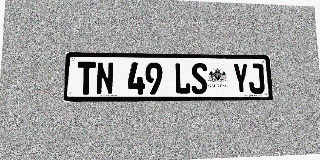4: (128, 62, 145, 94)
9: (145, 62, 162, 94)
J: (248, 63, 265, 94)
L: (174, 63, 191, 94)
N: (96, 62, 114, 95)
S: (191, 63, 208, 94)
T: (77, 62, 96, 95)
Y: (232, 63, 249, 94)
